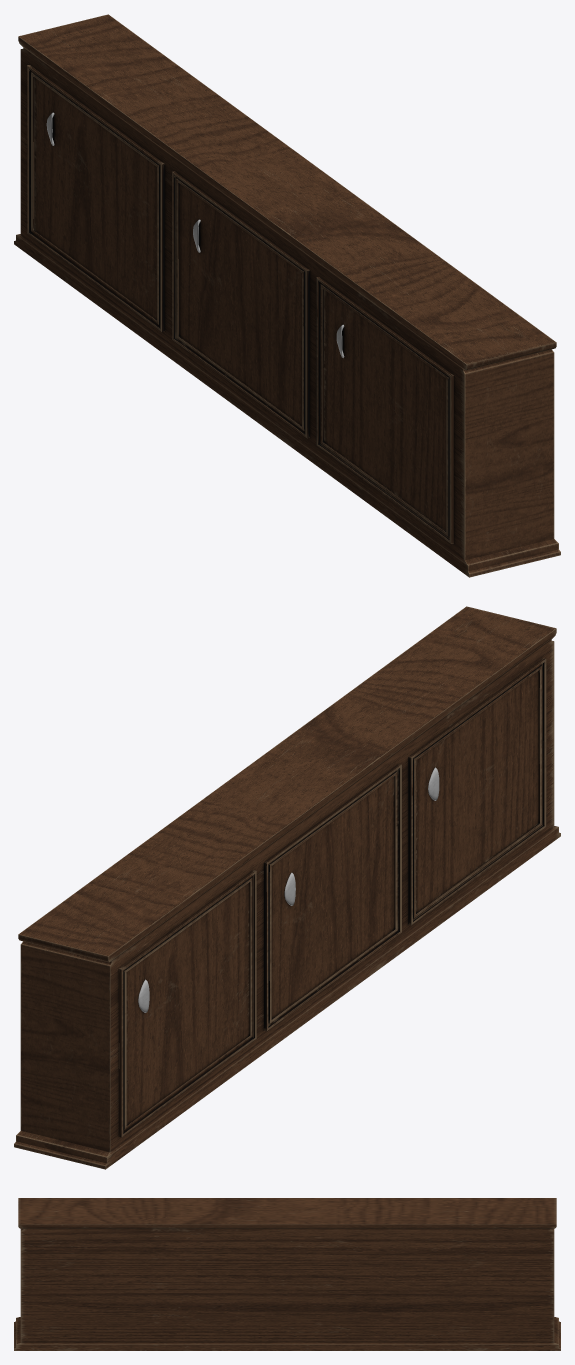
File: furniture2.gltf
3 views of the same model, one above another, from view 1: azimuth 30°, elevation 25°; view 2: azimuth 150°, elevation 25°; view 3: azimuth 270°, elevation 25° (orthographic). The views are drawn at different scales.
Parts seen in each view (by area): view 1: Main_Wood_Frame, Doors; view 2: Main_Wood_Frame, Doors, Handles; view 3: Main_Wood_Frame.
Boxes of the visible parts, x1,y1,x2,y2 form: Main_Wood_Frame: (14, 14, 560, 577); Doors: (27, 65, 453, 543); Main_Wood_Frame: (14, 606, 560, 1169); Doors: (119, 658, 546, 1137); Handles: (138, 767, 439, 1012); Main_Wood_Frame: (14, 1198, 560, 1350).
Bounding box in the file's own units: 5.58 × 11.85 × 46.49.
3 materials, 3 textured.
